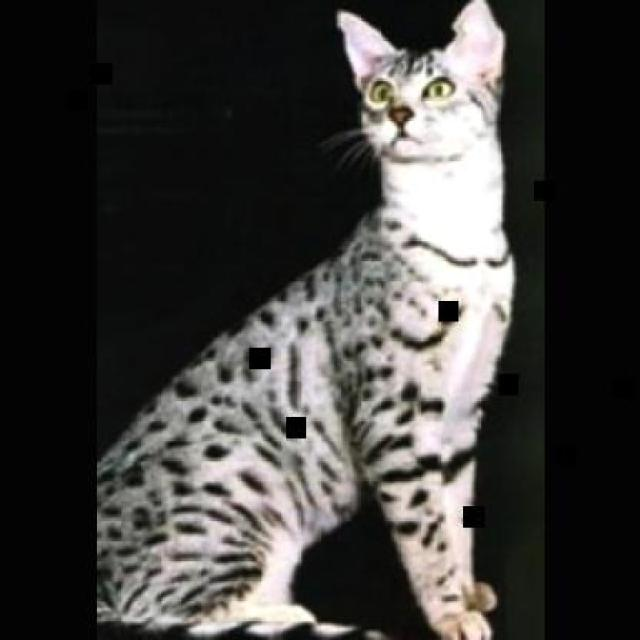unauthorized: (94, 0, 517, 638)
